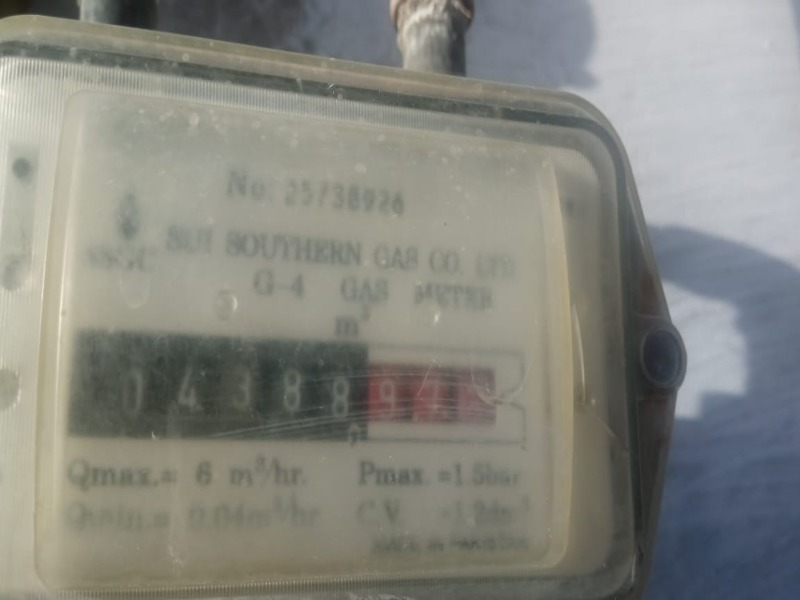ssgc: (77, 347, 511, 437)
